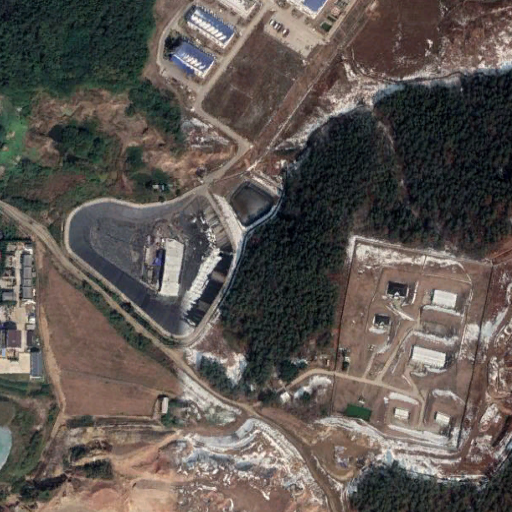lf: (58, 186, 246, 349)
